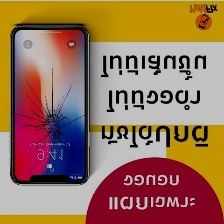phone: (7, 20, 94, 186)
